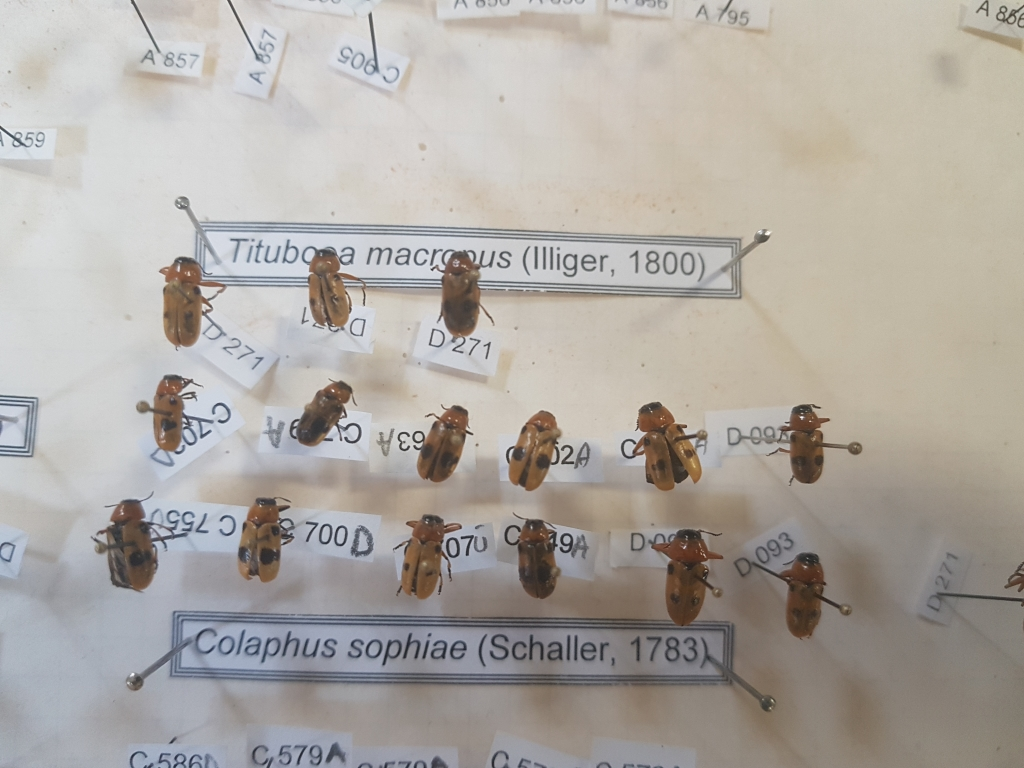Tituboea_macropus: (96, 489, 170, 594), (649, 523, 719, 627), (634, 401, 710, 492), (157, 255, 230, 349), (296, 243, 369, 334), (430, 247, 496, 343), (394, 512, 461, 606), (231, 495, 296, 589), (414, 397, 475, 484), (770, 401, 828, 488), (508, 406, 560, 493), (300, 375, 355, 455), (149, 369, 200, 453)
